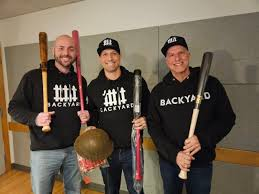baseball bat: (178, 51, 215, 181), (67, 29, 92, 124), (35, 30, 54, 134), (130, 67, 145, 194)
